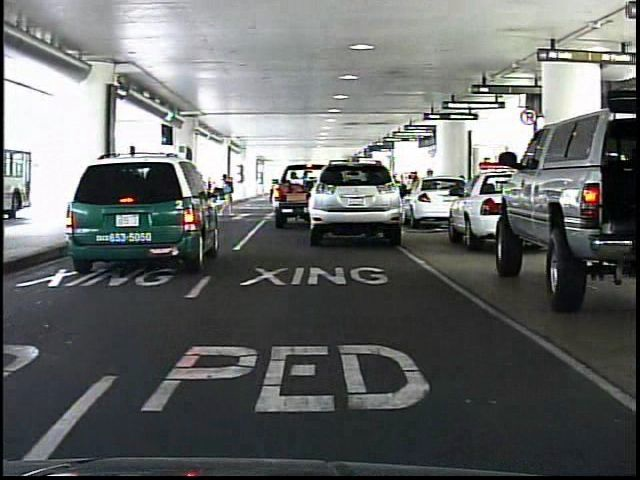person: (213, 168, 237, 221)
